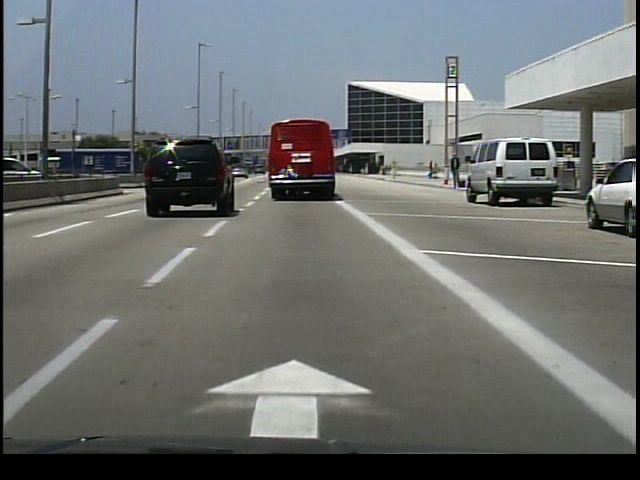person: (448, 152, 462, 193)
